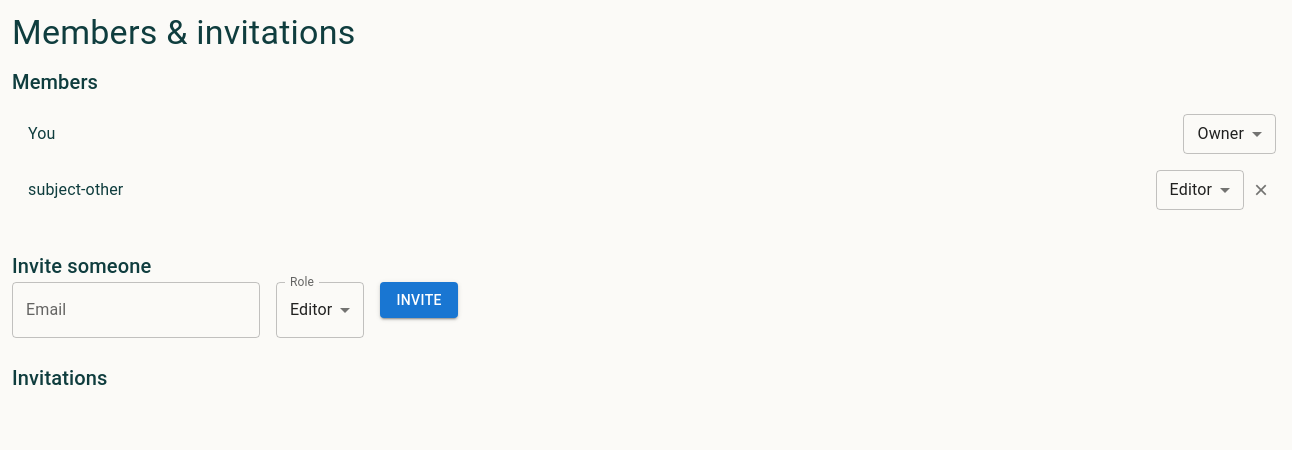
Test: ManageMembersPage › shows an error when a role change is rejected by the API (e.g. demoting the last owner)
This screenshot has width=1292, height=450.
Click the dropdown labelled "Owner" at (1221, 134), box [1198,124,1244,143]
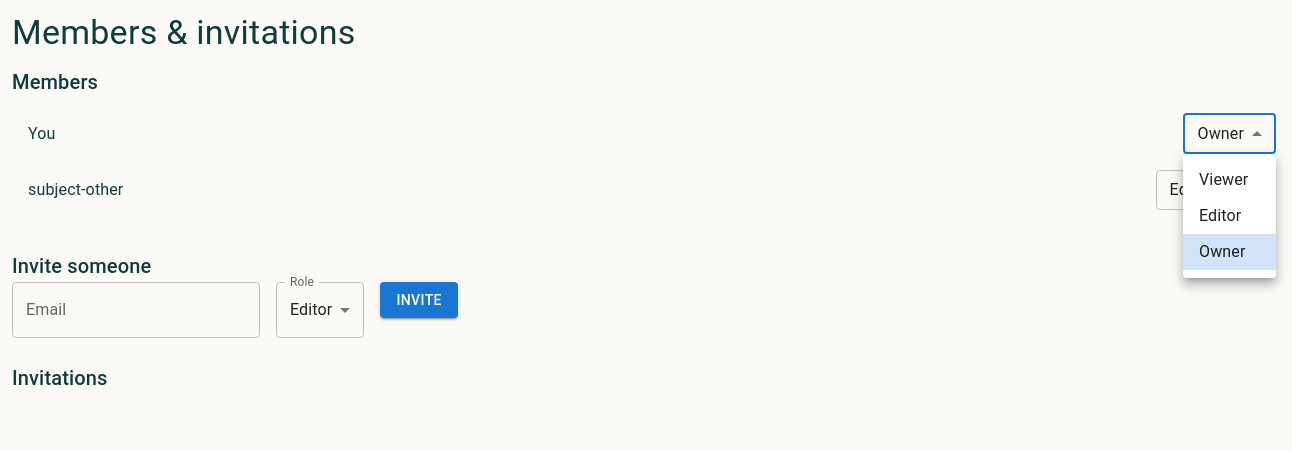
Click the option "Editor" at (1220, 216), box [1199,206,1241,225]
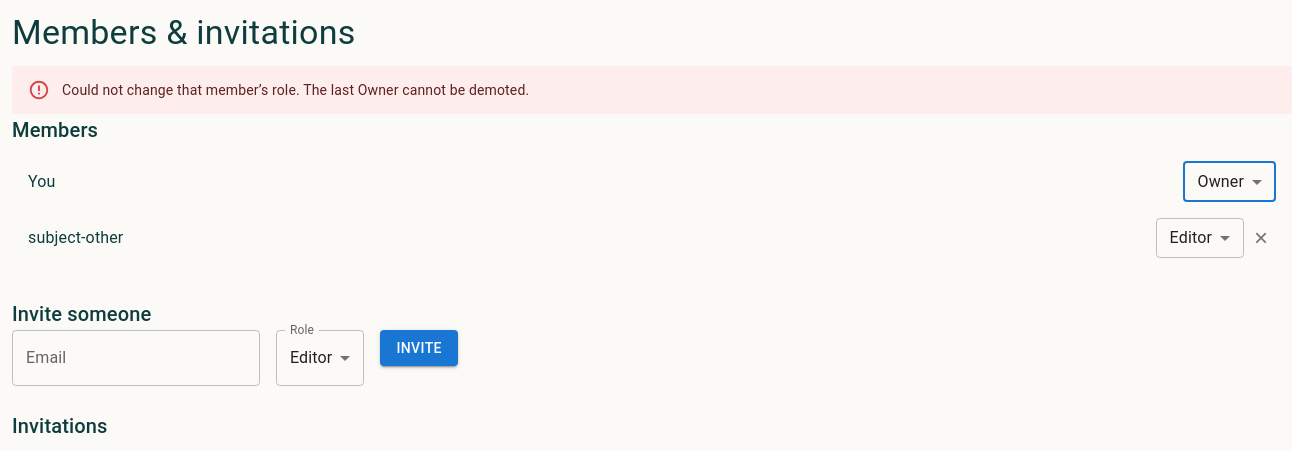
expect the message "Could not change that member’s role. The last Owner cannot be demoted." is shown: met, box [12,66,1291,114]
